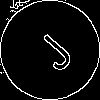J: (25, 25, 77, 74)
